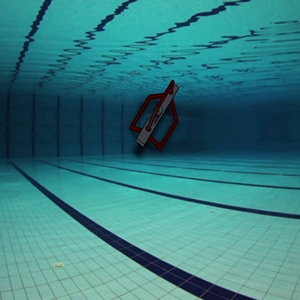submarine: (117, 75, 223, 184)
